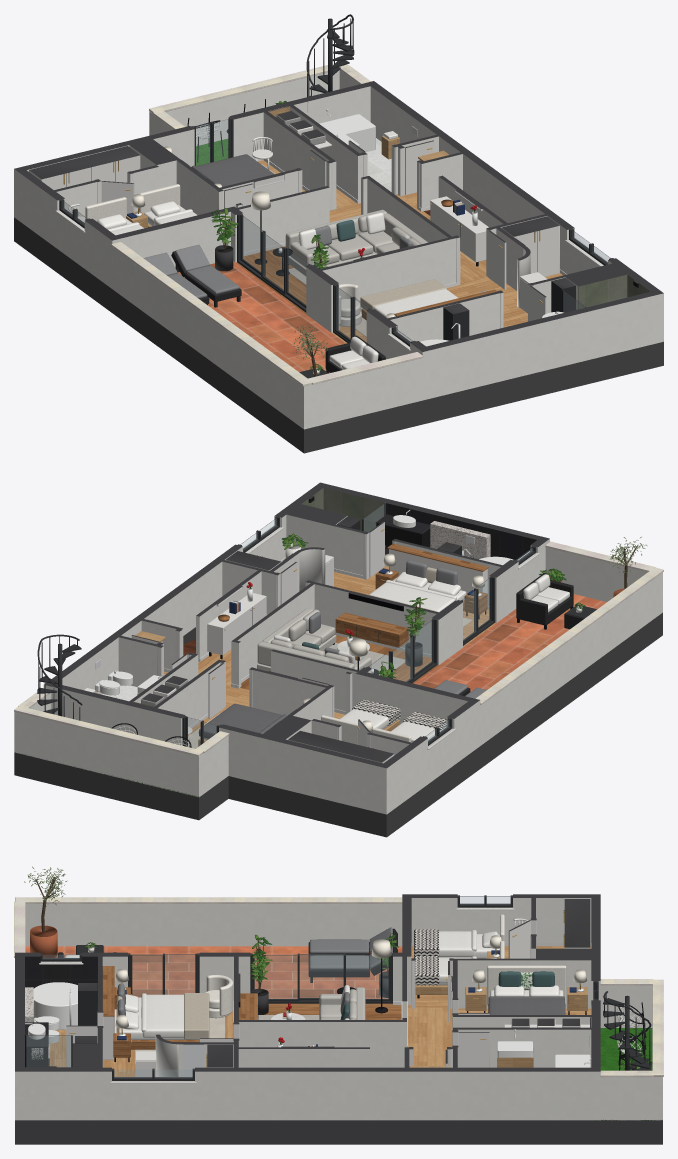
Rendered from villa-ar-maqueta.glb.
3 renders of one model, top to bottom at view 1: azimuth 30°, elevation 25°; view 2: azimuth 150°, elevation 25°; view 3: azimuth 270°, elevation 25°, orthographic. The views are drawn at different scales.
Visible parts, largest first — view 1: grupo_Pared_Enlucido+Pared_Corte, grupo_Base_Maqueta, grupo_Porcelanico_Negro+Corte_Seccion, grupo_Lacado_Blanco, grupo_Suelo_Barro_Cocido, grupo_Albardilla_Piedra, grupo_Lino_Blanco, grupo_Tela_Sofa, grupo_Antracita, grupo_Suelo_Roble, grupo_Aluminio_Grafito, grupo_Cojin_Gris (+14 smaller); view 2: grupo_Pared_Enlucido+Pared_Corte, grupo_Porcelanico_Negro+Corte_Seccion, grupo_Base_Maqueta, grupo_Lacado_Blanco, grupo_Suelo_Barro_Cocido, grupo_Albardilla_Piedra, grupo_Lino_Blanco, grupo_Madera_Nogal, grupo_Tela_Sofa, grupo_Aluminio_Grafito, grupo_Suelo_Roble, grupo_Antracita (+16 smaller); view 3: grupo_Pared_Enlucido+Pared_Corte, grupo_Porcelanico_Negro+Corte_Seccion, grupo_Base_Maqueta, grupo_Suelo_Barro_Cocido, grupo_Lacado_Blanco, grupo_Albardilla_Piedra, grupo_Lino_Blanco, Muro Oeste Salon slide 3 vidrio, grupo_Suelo_Roble, grupo_Ceramica_Blanca, grupo_Antracita, grupo_Aluminio_Grafito (+27 smaller).
Boxes of the visible parts, bbox=[...] form: grupo_Pared_Enlucido+Pared_Corte: bbox=[14, 70, 663, 429]; grupo_Base_Maqueta: bbox=[14, 217, 663, 453]; grupo_Porcelanico_Negro+Corte_Seccion: bbox=[14, 81, 663, 351]; grupo_Lacado_Blanco: bbox=[18, 137, 566, 330]; grupo_Suelo_Barro_Cocido: bbox=[178, 261, 345, 373]; grupo_Albardilla_Piedra: bbox=[111, 63, 423, 386]; grupo_Lino_Blanco: bbox=[97, 201, 461, 369]; grupo_Tela_Sofa: bbox=[285, 209, 427, 276]; grupo_Antracita: bbox=[66, 14, 575, 378]; grupo_Suelo_Roble: bbox=[258, 160, 562, 343]; grupo_Aluminio_Grafito: bbox=[59, 118, 609, 346]; grupo_Cojin_Gris: bbox=[143, 225, 412, 298]; grupo_Pared_Enlucido+Pared_Corte: bbox=[14, 502, 662, 814]; grupo_Porcelanico_Negro+Corte_Seccion: bbox=[44, 482, 549, 768]; grupo_Base_Maqueta: bbox=[14, 612, 662, 837]; grupo_Lacado_Blanco: bbox=[131, 522, 489, 810]; grupo_Suelo_Barro_Cocido: bbox=[414, 594, 606, 691]; grupo_Albardilla_Piedra: bbox=[14, 541, 663, 756]; grupo_Lino_Blanco: bbox=[204, 572, 569, 742]; grupo_Madera_Nogal: bbox=[218, 543, 488, 660]; grupo_Tela_Sofa: bbox=[257, 608, 371, 671]; grupo_Aluminio_Grafito: bbox=[182, 517, 536, 746]; grupo_Suelo_Roble: bbox=[164, 566, 496, 735]; grupo_Antracita: bbox=[37, 520, 596, 720]; grupo_Pared_Enlucido+Pared_Corte: bbox=[15, 898, 662, 1120]; grupo_Porcelanico_Negro+Corte_Seccion: bbox=[15, 894, 600, 1071]; grupo_Base_Maqueta: bbox=[15, 1120, 662, 1144]; grupo_Suelo_Barro_Cocido: bbox=[25, 946, 402, 998]; grupo_Lacado_Blanco: bbox=[24, 918, 591, 1119]; grupo_Albardilla_Piedra: bbox=[14, 897, 663, 1077]; grupo_Lino_Blanco: bbox=[64, 930, 563, 1046]; Muro Oeste Salon slide 3 vidrio: bbox=[255, 954, 388, 998]; grupo_Suelo_Roble: bbox=[49, 946, 590, 1076]; grupo_Ceramica_Blanca: bbox=[28, 953, 590, 1067]; grupo_Antracita: bbox=[75, 945, 651, 1070]; grupo_Aluminio_Grafito: bbox=[40, 897, 598, 1080].
Size of the model in its own units: 0.458 by 0.16 by 0.705.
Materials: 61 (26 with a texture image).
